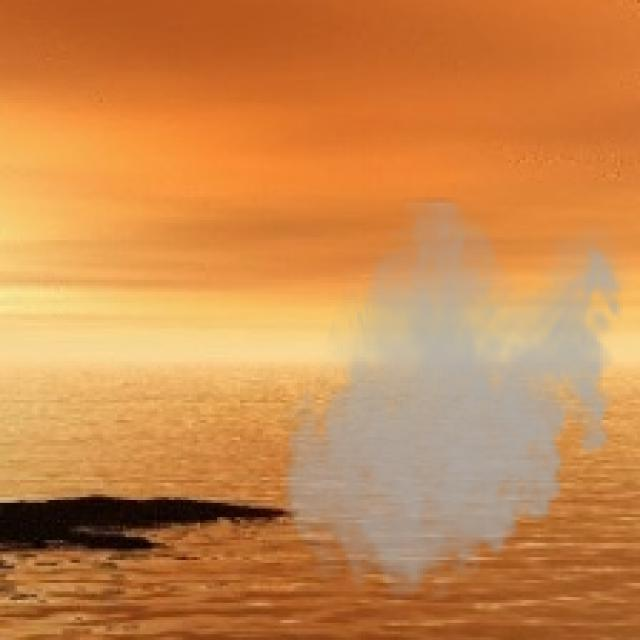smoke: (274, 197, 634, 612)
